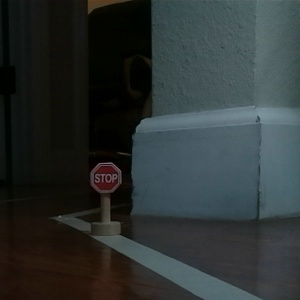stop sign: (86, 159, 124, 238)
